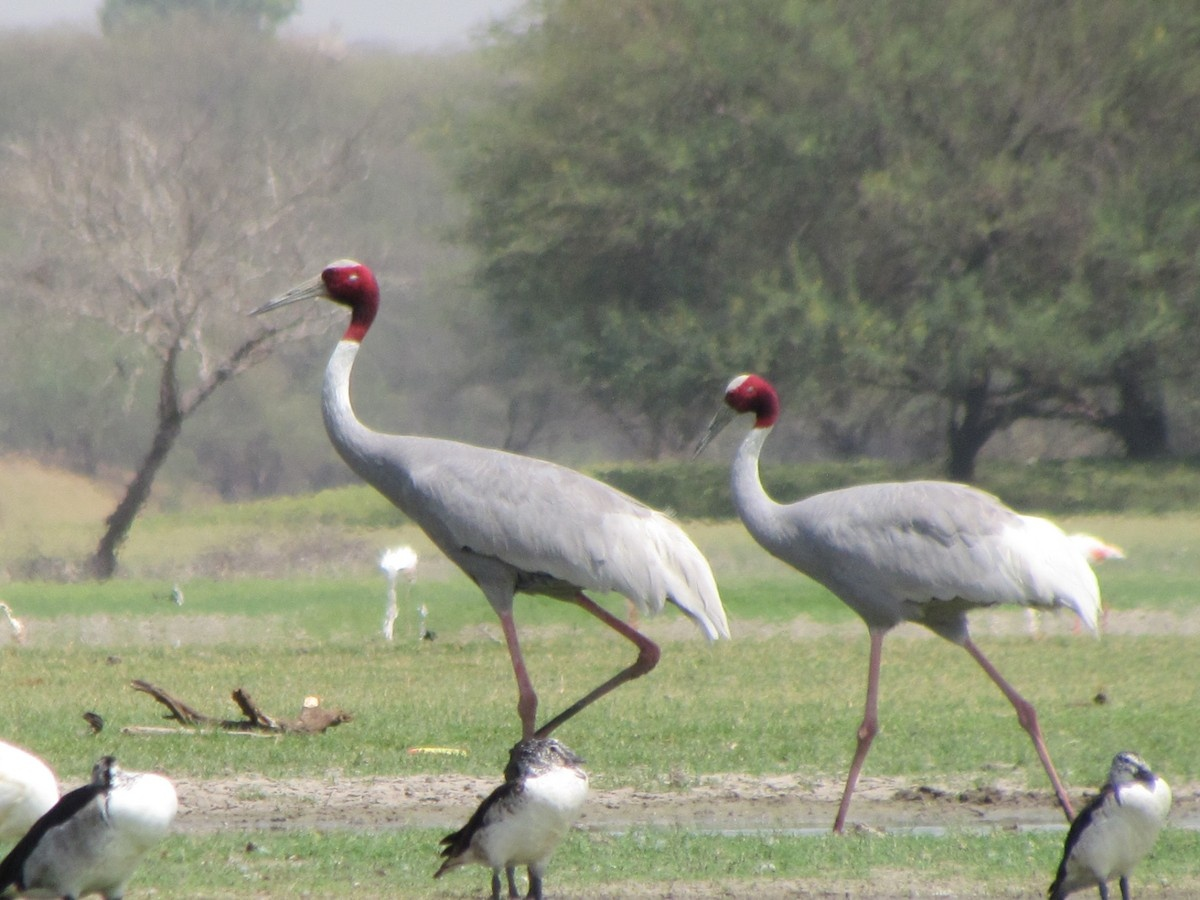crane: (247, 246, 731, 744), (694, 351, 1136, 845)
